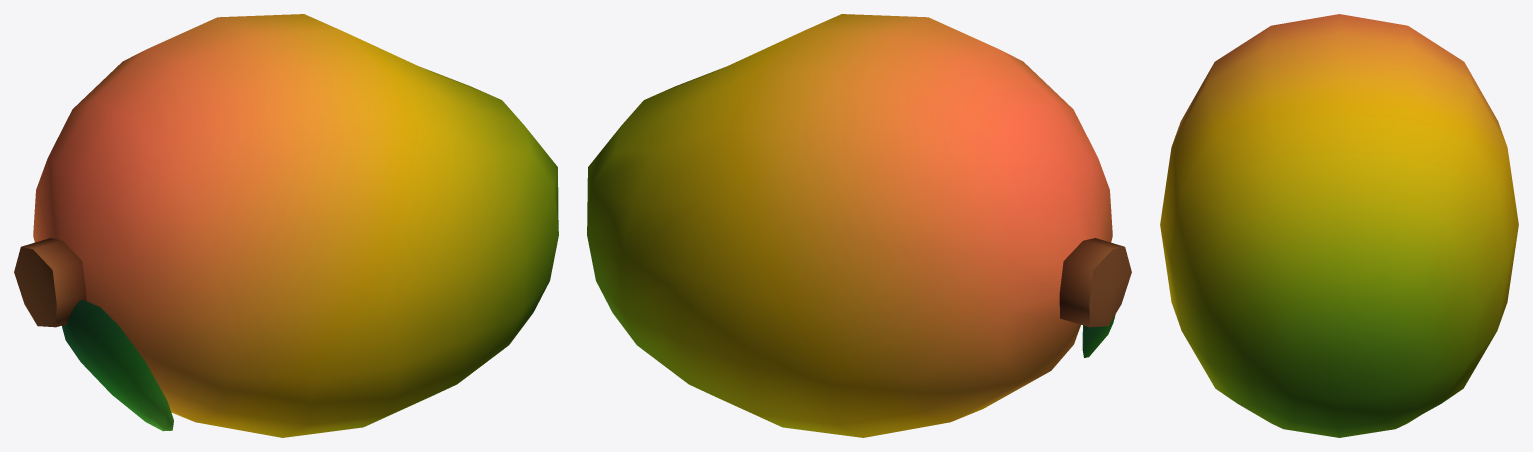
The model's file is Mango_01.glb.
3 views of the same model, side by side, from view 1: azimuth 30°, elevation 25°; view 2: azimuth 150°, elevation 25°; view 3: azimuth 270°, elevation 25° (orthographic). The views are drawn at different scales.
Parts seen in each view (by area): view 1: Mango_01; view 2: Mango_01; view 3: Mango_01.
Part boxes in pixels (x1,y1,x2,y2): Mango_01: (14, 14, 558, 437); Mango_01: (587, 14, 1131, 437); Mango_01: (1160, 14, 1518, 437).
Bounding box in the file's own units: 0.3658 × 0.2708 × 0.2511.
Materials: 1 (1 with a texture image).
